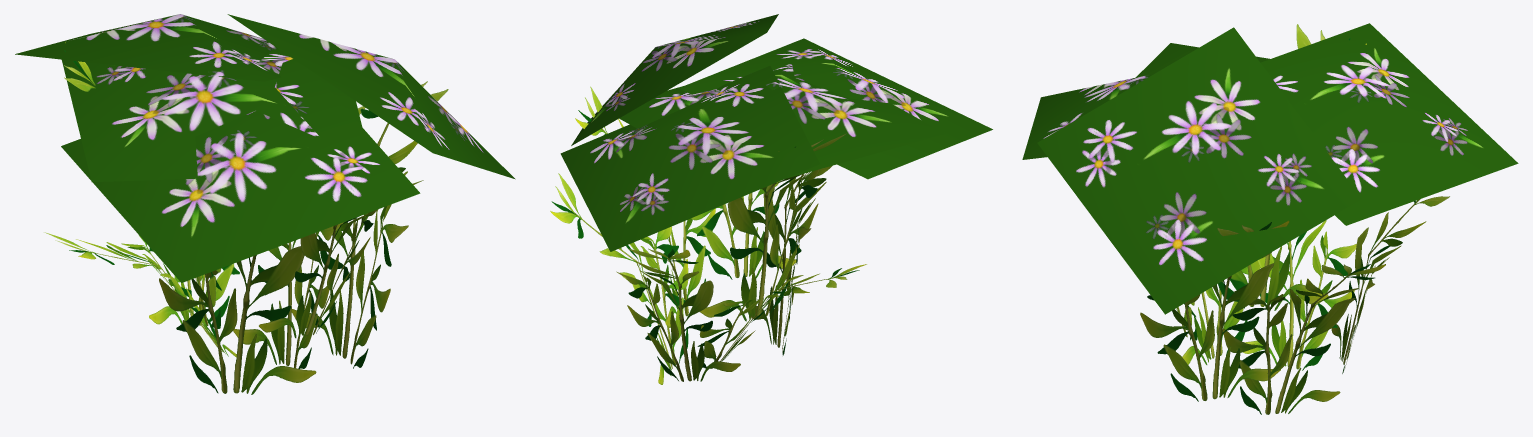
The model's file is glass_001.fbx.
The picture shows the model from 3 angles, left to right: view 1: azimuth 30°, elevation 25°; view 2: azimuth 150°, elevation 25°; view 3: azimuth 270°, elevation 25°; orthographic projection. The views are drawn at different scales.
Parts seen in each view (by area): view 1: polySurface1; view 2: polySurface1; view 3: polySurface1.
Boxes of the visible parts, bbox=[...] form: polySurface1: bbox=[15, 14, 515, 394]; polySurface1: bbox=[550, 14, 992, 384]; polySurface1: bbox=[1022, 23, 1518, 414].
Size of the model in its own units: 22.46 by 25.58 by 21.14.
